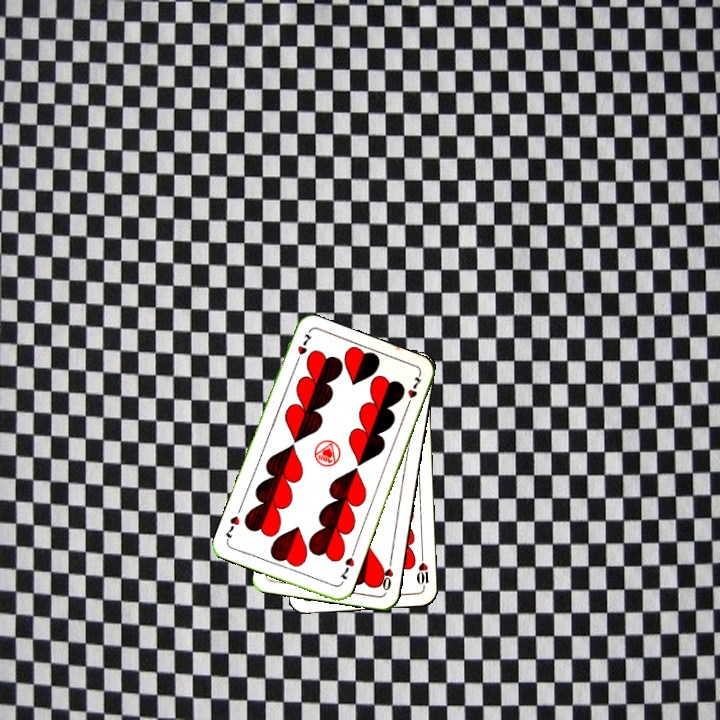H10: (412, 551, 431, 592)
H7: (291, 330, 315, 367), (335, 553, 357, 582)
HO: (377, 554, 396, 593)
